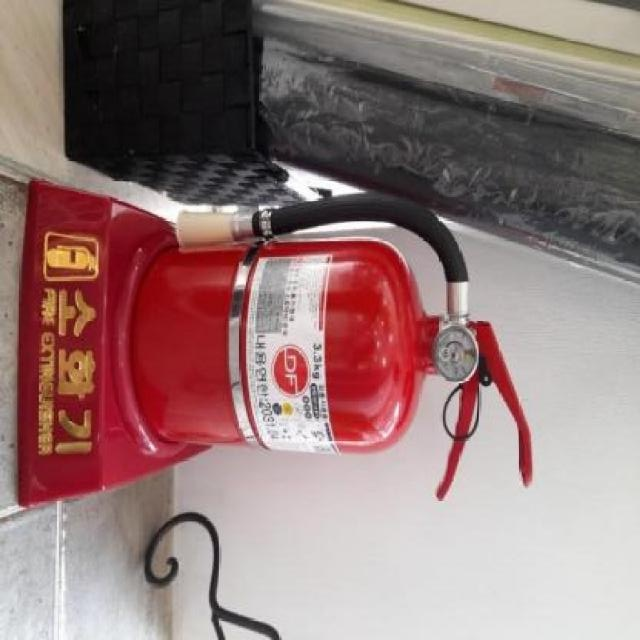fire extinguisher: (133, 189, 535, 500)
